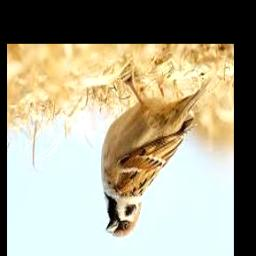Sparrow: (102, 76, 212, 237)
